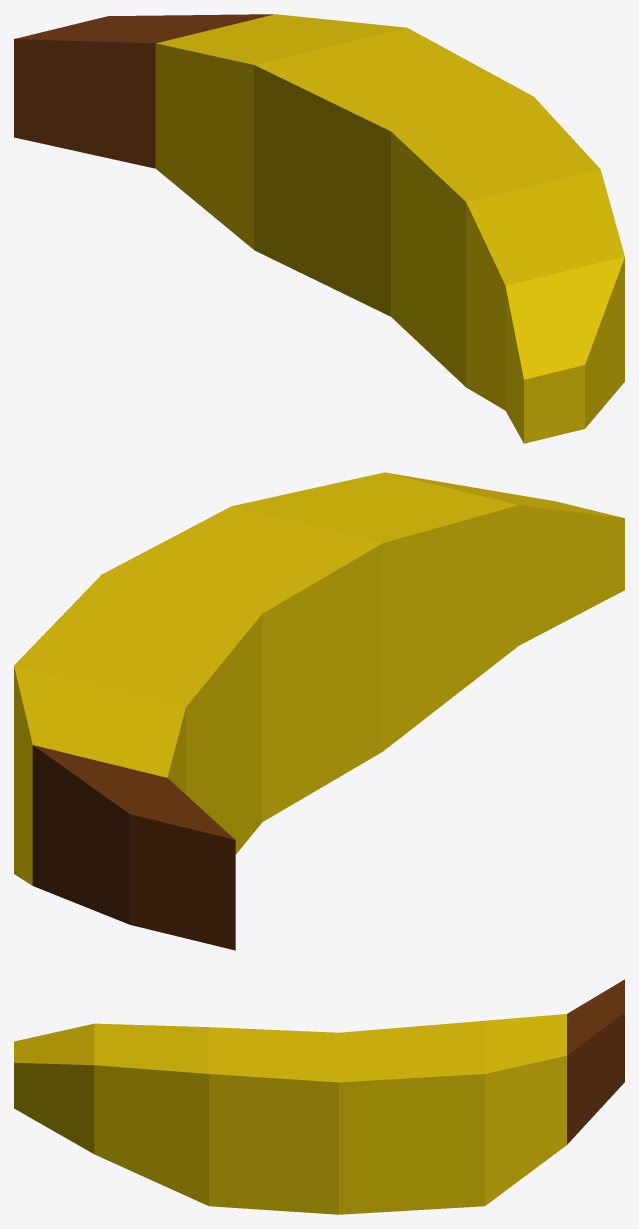
File: Banana.fbx
3 views of the same model, one above another, from view 1: azimuth 30°, elevation 25°; view 2: azimuth 150°, elevation 25°; view 3: azimuth 270°, elevation 25° (orthographic). The views are drawn at different scales.
Parts seen in each view (by area): view 1: Cube; view 2: Cube; view 3: Cube.
Boxes of the visible parts, <box> form: Cube: <box>14,14,624,443</box>; Cube: <box>14,472,624,950</box>; Cube: <box>14,979,624,1214</box>.
Size of the model in its own units: 361 by 200 by 837.
